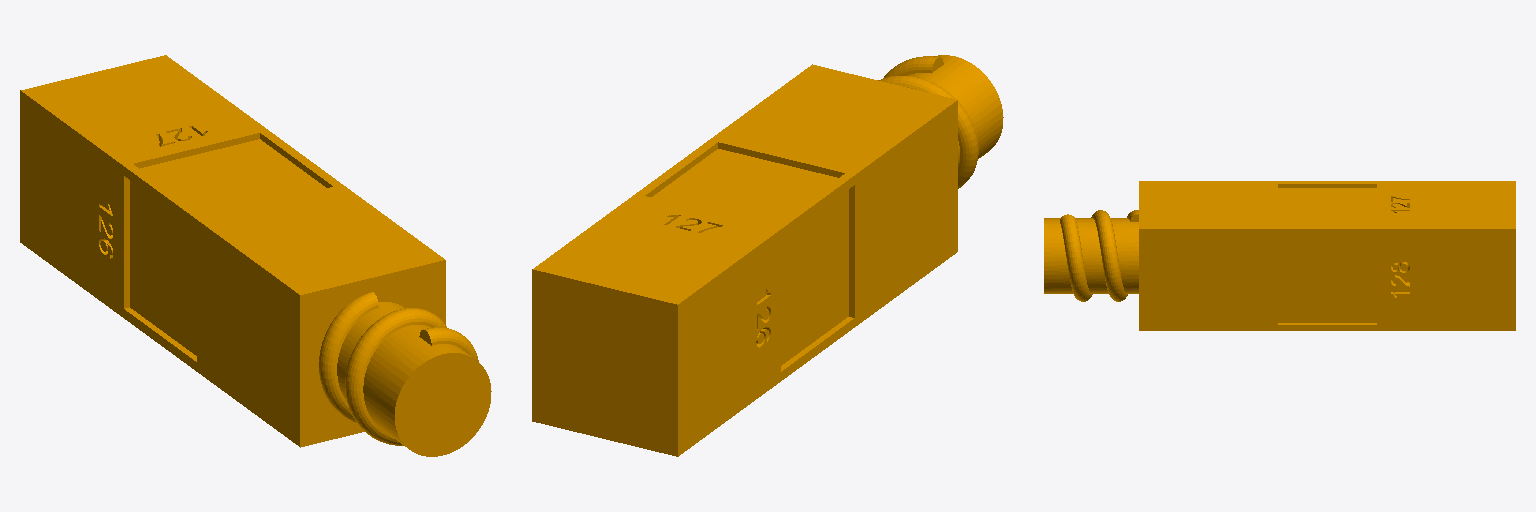
The robot description file, URDF, robot "desk_leg3":
<?xml version="1.0"?>
<robot name="desk_leg3">
    <link name="desk_leg4">
        <visual>
            <geometry>
                <mesh filename="../../mesh/desk/desk_leg4.obj" scale="1 1 1"/>
            </geometry>
        </visual>
        <collision>
            <geometry>
                <mesh filename="../../mesh/desk/desk_leg4.obj" scale="1 1 1"/>
            </geometry>
            <sdf resolution="512"/>
        </collision>
    </link>
</robot>

--- Render facts (derived) ---
The picture shows the robot from 3 angles, left to right: view 1: azimuth 30°, elevation 25°; view 2: azimuth 150°, elevation 25°; view 3: azimuth 270°, elevation 25°; orthographic projection.
Robot: desk_leg3 — 1 links, 0 joints (none); root link desk_leg4; default pose: all joints at 0.
Links seen in each view (by area): view 1: desk_leg4; view 2: desk_leg4; view 3: desk_leg4.
Link boxes in pixels (<box>): desk_leg4: <box>20,55,491,456</box>; desk_leg4: <box>532,55,1003,456</box>; desk_leg4: <box>1044,181,1515,330</box>.
Size in the robot's own frame: 0.03 by 0.125 by 0.03 metres.
Meshes: 1 distinct files referenced, 1 mesh visuals loaded (1 OBJ).